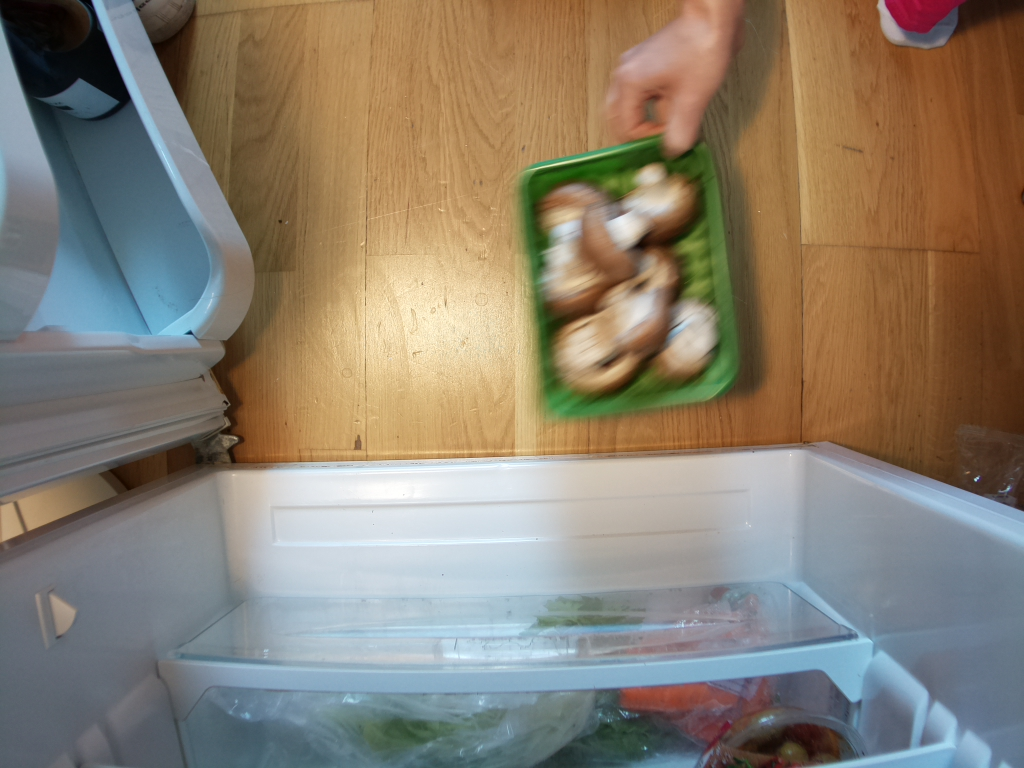mushrooms: (515, 137, 745, 421)
